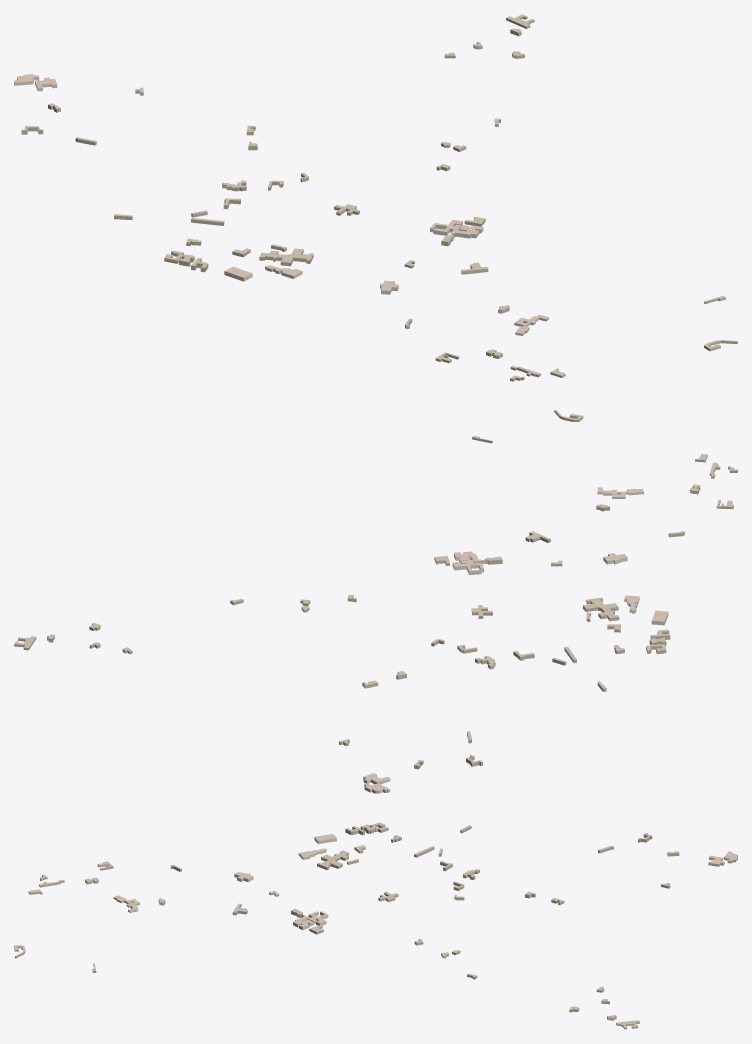
3 views of the same model, one above another, from view 1: azimuth 30°, elevation 25°; view 2: azimuth 150°, elevation 25°; view 3: azimuth 270°, elevation 25° (orthographic). The views are drawn at different scales.
Size of the model in its own units: 1461 by 17.29 by 2195.
